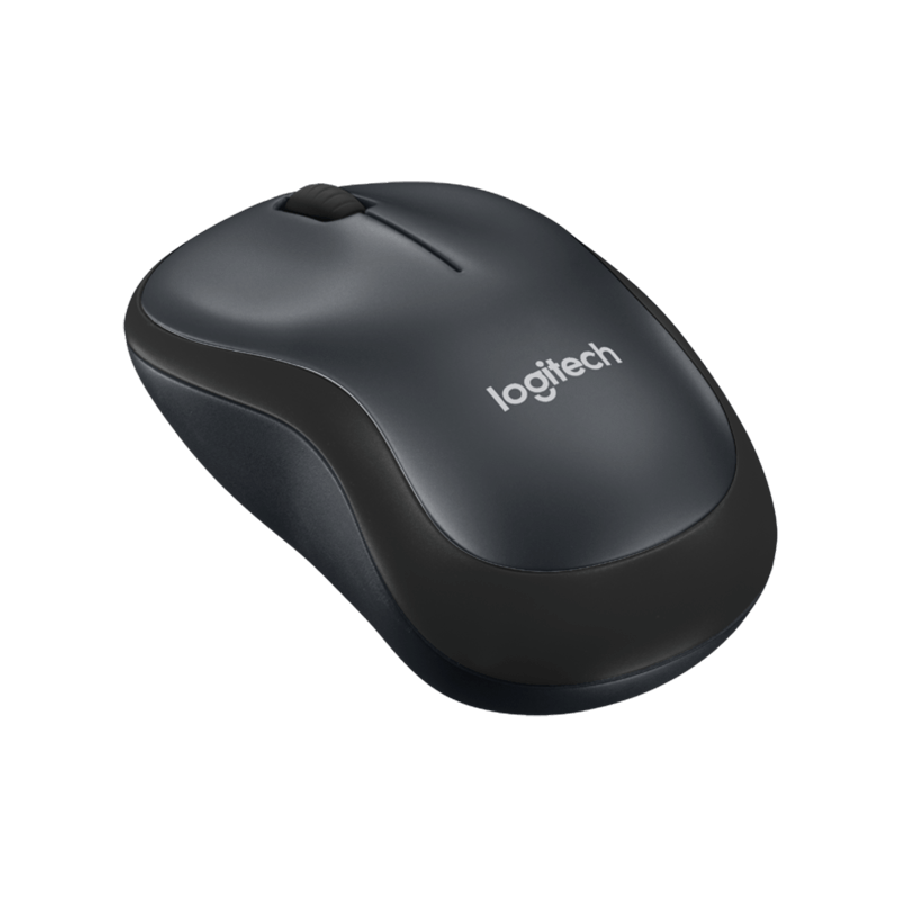Mouse: (117, 163, 786, 721)
